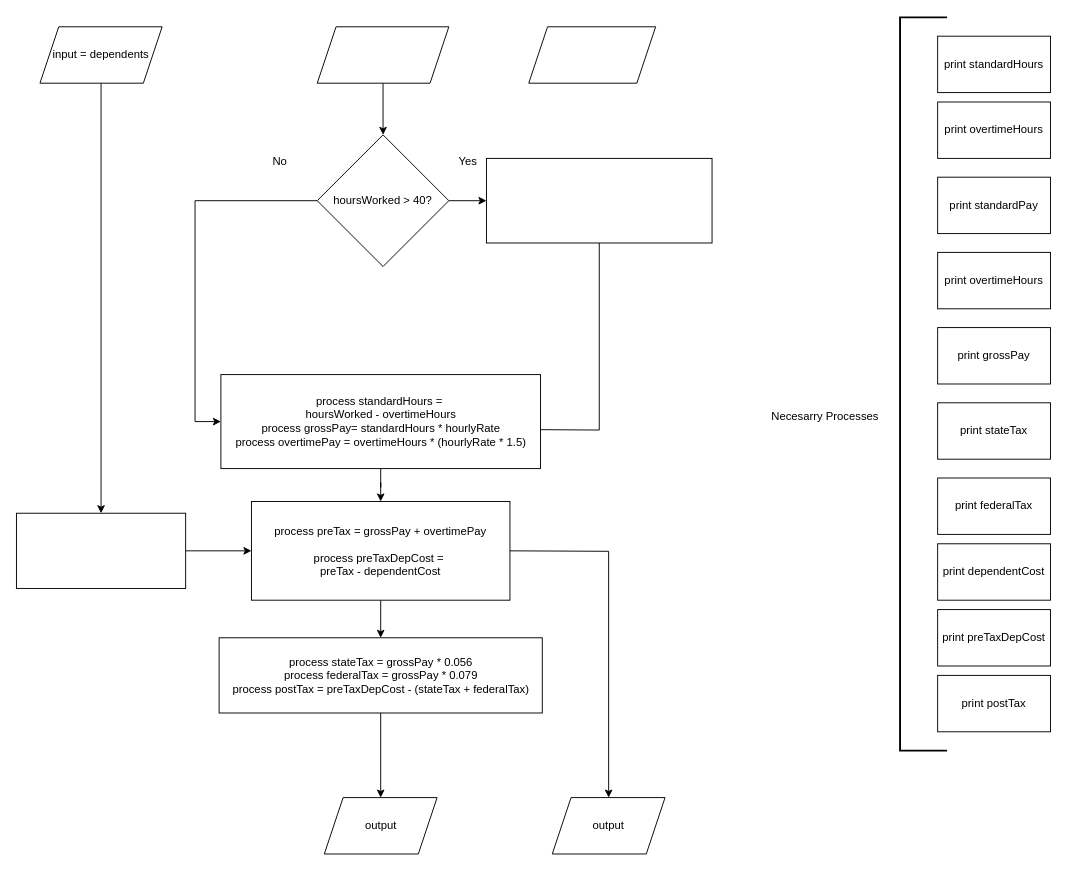
Some shapes in this 1067 by 870 pixel diagram are drawn without their labels. The centre of each missing label's shape, as x and y in pixels:
"dependentCost= dependents * 25" goes at (x=101, y=550).
"input = hourlyRate" goes at (x=592, y=54).
"input = hoursWorked" goes at (x=382, y=54).
"process overtimeHours = hoursWorked - 40" goes at (x=599, y=200).
